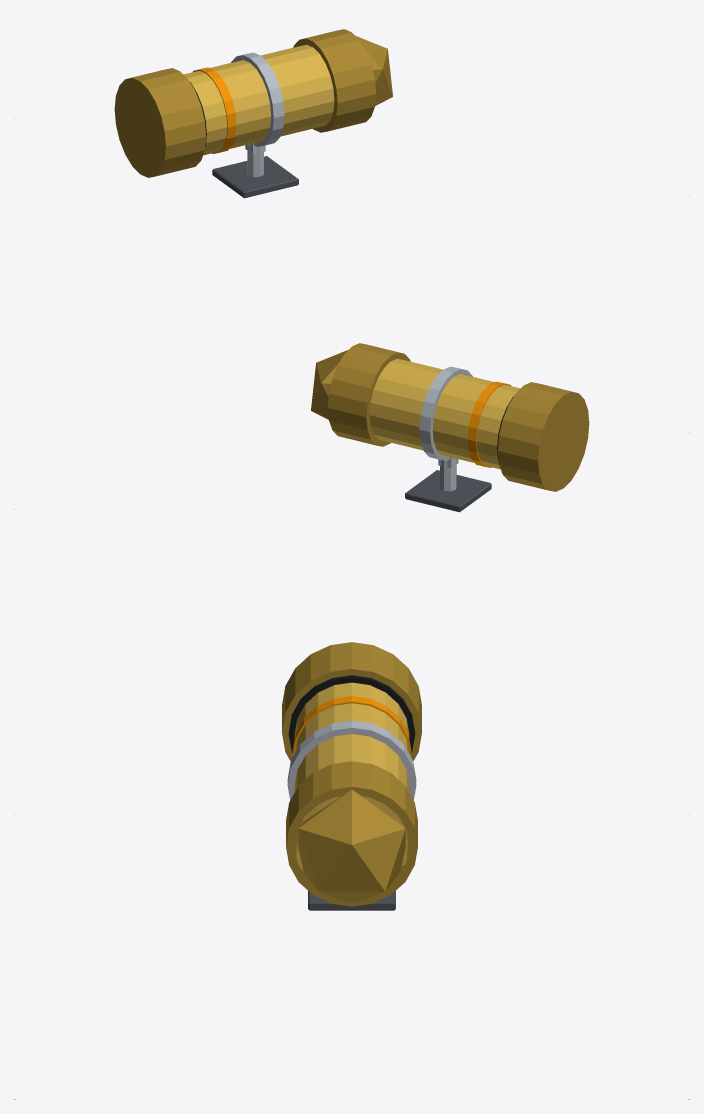
Rendered from tuyau_bout_t2.glb.
3 renders of one model, top to bottom at view 1: azimuth 30°, elevation 25°; view 2: azimuth 150°, elevation 25°; view 3: azimuth 270°, elevation 25°, orthographic. The views are drawn at different scales.
Visible parts, largest first — view 1: pieces_laiton_sombre.014, pieces_laiton.014, pieces_gris_clair.014, pieces_acier_sombre.050, pieces_rive_t2.016; view 2: pieces_laiton_sombre.014, pieces_laiton.014, pieces_gris_clair.014, pieces_acier_sombre.050, pieces_rive_t2.016; view 3: pieces_laiton_sombre.014, pieces_laiton.014, pieces_gris_clair.014, pieces_noir.022, pieces_rive_t2.016, pieces_acier_sombre.050.
Boxes of the visible parts, bbox=[...] form: pieces_laiton_sombre.014: bbox=[114, 29, 392, 177]; pieces_laiton.014: bbox=[183, 44, 334, 155]; pieces_gris_clair.014: bbox=[231, 52, 284, 177]; pieces_acier_sombre.050: bbox=[212, 156, 298, 198]; pieces_rive_t2.016: bbox=[192, 67, 236, 153]; pieces_laiton_sombre.014: bbox=[311, 343, 589, 491]; pieces_laiton.014: bbox=[369, 358, 520, 469]; pieces_gris_clair.014: bbox=[419, 366, 472, 491]; pieces_acier_sombre.050: bbox=[405, 470, 491, 512]; pieces_rive_t2.016: bbox=[467, 381, 511, 467]; pieces_laiton_sombre.014: bbox=[282, 642, 421, 906]; pieces_laiton.014: bbox=[294, 682, 409, 870]; pieces_gris_clair.014: bbox=[287, 720, 416, 799]; pieces_noir.022: bbox=[288, 675, 415, 752]; pieces_rive_t2.016: bbox=[292, 696, 411, 756]; pieces_acier_sombre.050: bbox=[308, 891, 395, 910].
Size of the model in its own units: 1 by 0.2837 by 1.
